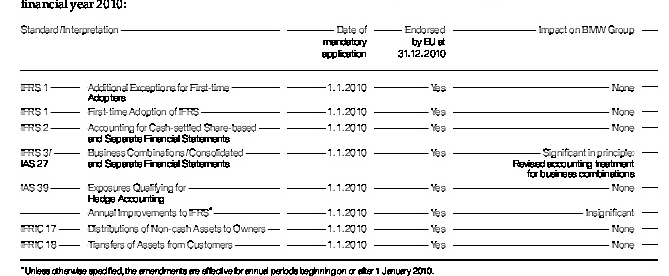table: (0, 0, 669, 276)
